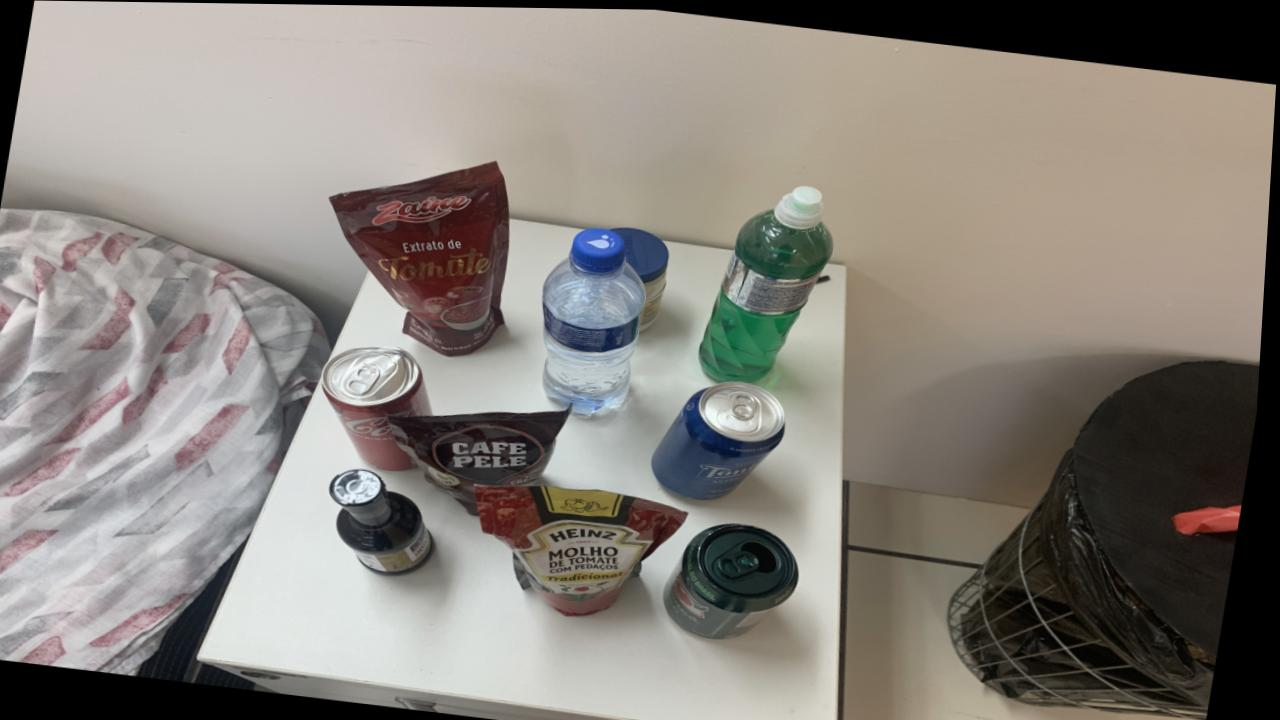Coffee-Pantry_Items: (394, 407, 576, 512)
Coke-Drinks: (326, 344, 436, 470)
Detergent-Cleanup_Items: (703, 184, 837, 380)
English_Sauce-Pantry_Items: (335, 467, 441, 573)
Guarana_Can-Drinks: (671, 521, 806, 636)
Mayonnaise-Pantry_Items: (614, 225, 673, 326)
Tomato_Sauce-Pantry_Items: (332, 161, 513, 354), (481, 483, 692, 614)
Tonic-Drinks: (657, 379, 791, 497)
Water_Bottle-Drinks: (545, 226, 649, 413)
